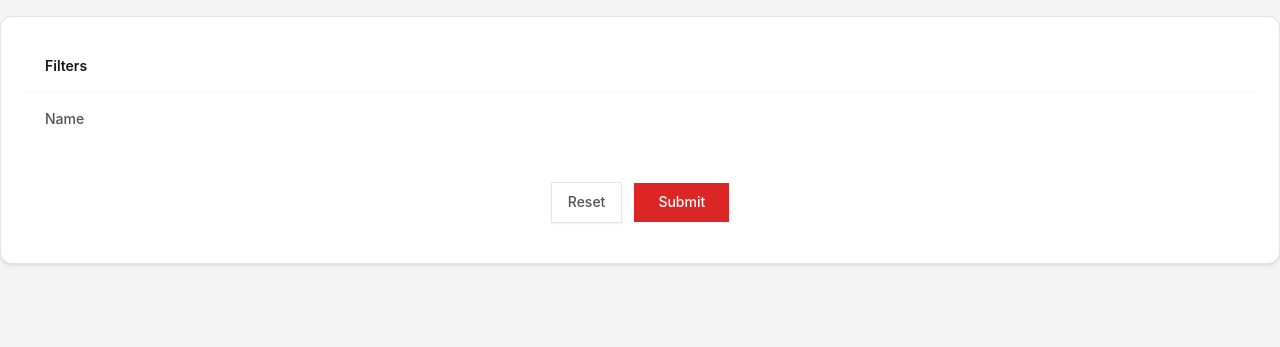
Test: V1FilterSection › shows fallback error when no message
Step 1. Click the button "Submit" → click(682, 203), box top-left (634, 183), bottom-right (729, 222)
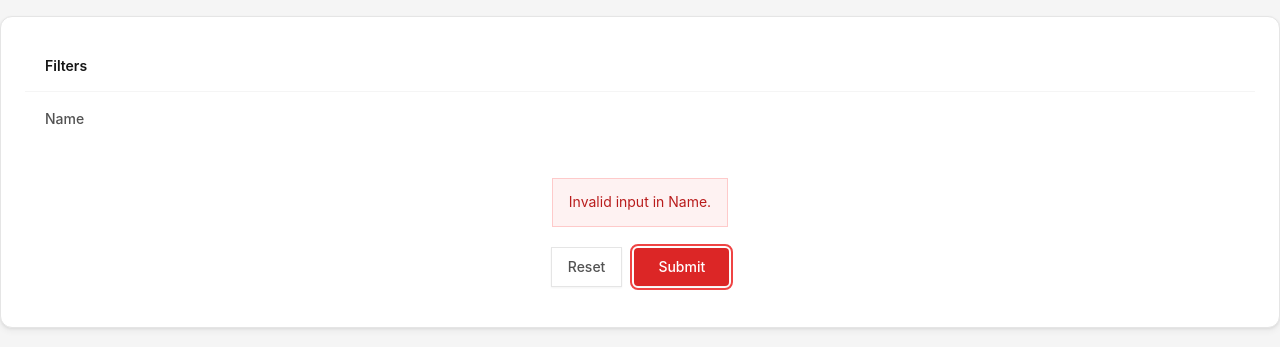
Expected: the text "Invalid input in Name." is shown, top-left (552, 178), bottom-right (728, 227)
